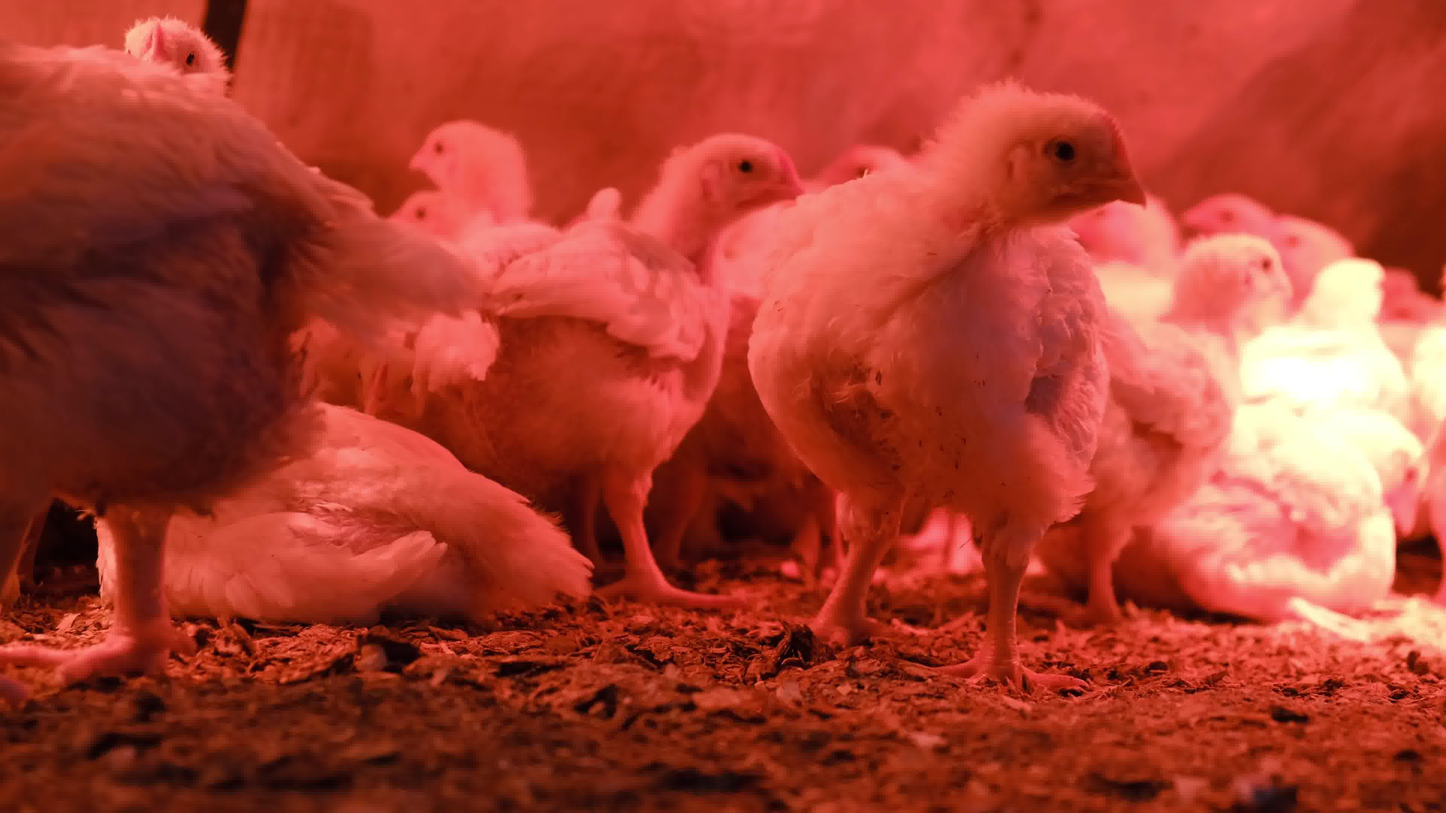AbNormal: (43, 361, 633, 623), (1162, 350, 1446, 595)
Normal: (717, 87, 1201, 676), (2, 24, 375, 702), (426, 128, 842, 632), (1071, 235, 1292, 623), (311, 66, 582, 312), (1267, 199, 1431, 427)
